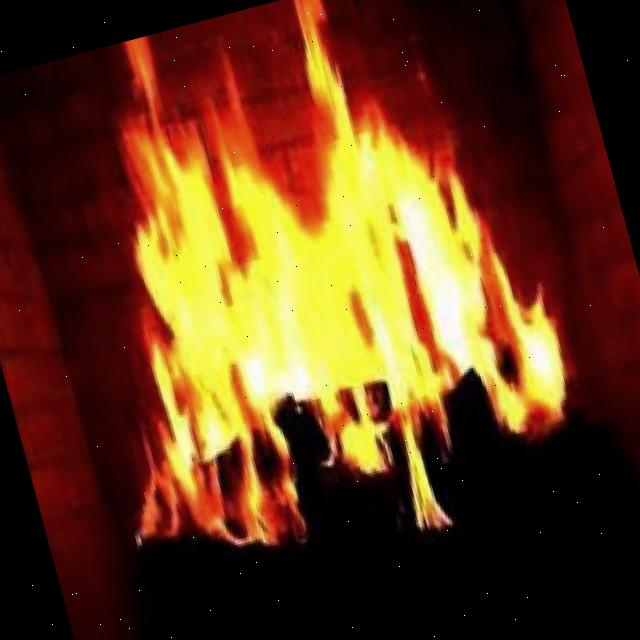fire: (111, 30, 559, 505)
